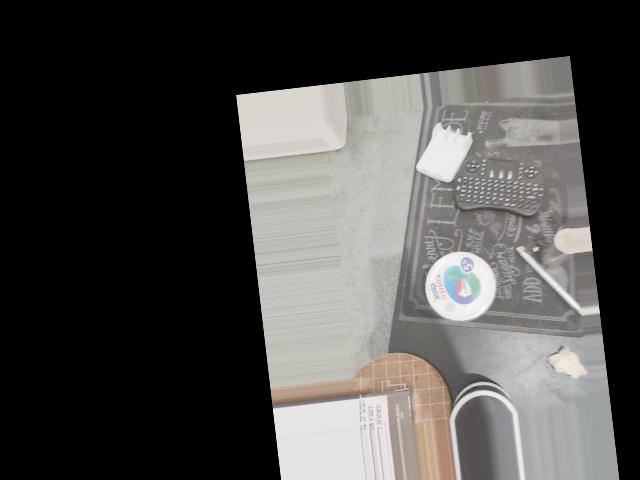cotage: (408, 244, 501, 330)
